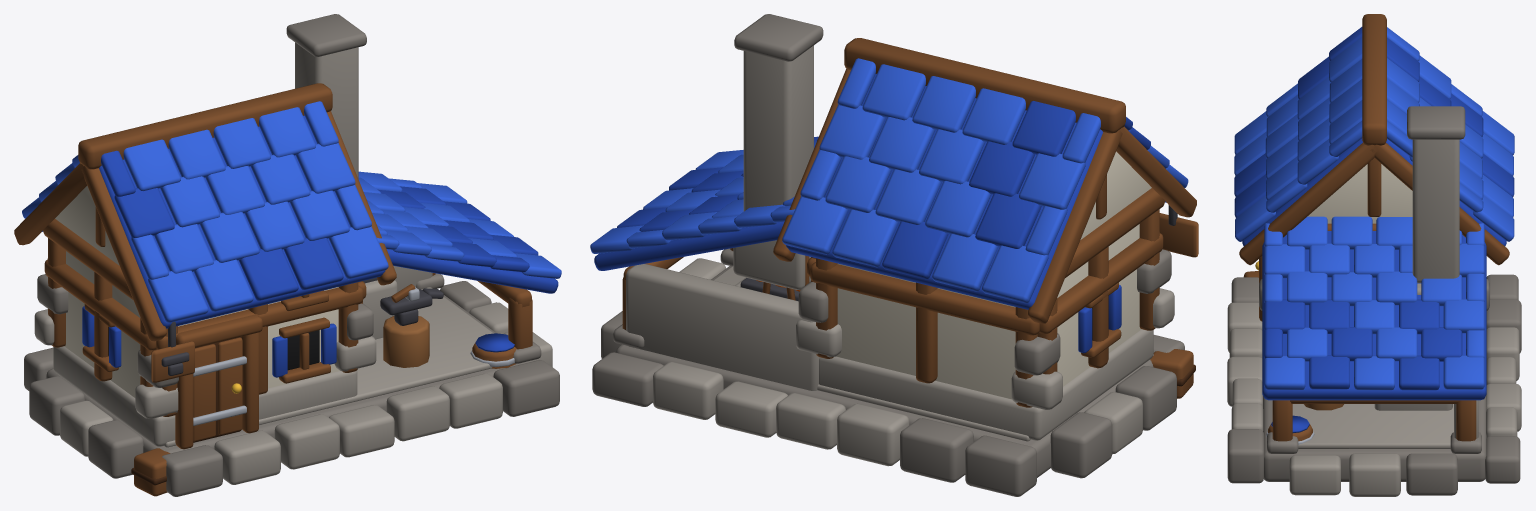
The model's file is Blacksmith.glb.
3 views of the same model, side by side, from view 1: azimuth 30°, elevation 25°; view 2: azimuth 150°, elevation 25°; view 3: azimuth 270°, elevation 25° (orthographic). The views are drawn at different scales.
Parts seen in each view (by area): view 1: Blacksmith; view 2: Blacksmith; view 3: Blacksmith.
Boxes of the visible parts, x1,y1,x2,y2 form: Blacksmith: (14, 14, 561, 496); Blacksmith: (590, 14, 1198, 496); Blacksmith: (1227, 14, 1521, 496).
Bounding box in the file's own units: 4.31 × 3.06 × 2.63.
